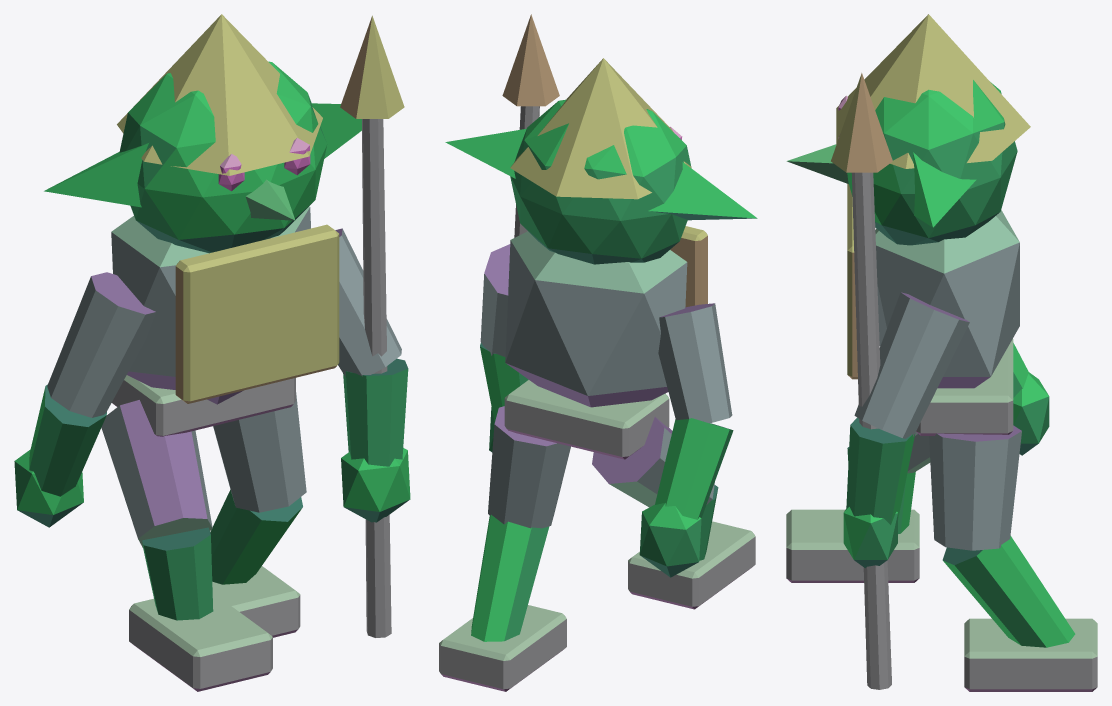
Rendered from creature_goblin_raider_passing_a_v01.glb.
3 views of the same model, side by side, from view 1: azimuth 30°, elevation 25°; view 2: azimuth 150°, elevation 25°; view 3: azimuth 270°, elevation 25° (orthographic). The views are drawn at different scales.
Parts seen in each view (by area): view 1: GEO_creature_goblin_raider_passing_a_v01; view 2: GEO_creature_goblin_raider_passing_a_v01; view 3: GEO_creature_goblin_raider_passing_a_v01.
Part boxes in pixels (x1,y1,x2,y2): GEO_creature_goblin_raider_passing_a_v01: (14,14,410,691); GEO_creature_goblin_raider_passing_a_v01: (439,14,757,691); GEO_creature_goblin_raider_passing_a_v01: (786,14,1097,691).
Size of the model in its own units: 0.88 by 1.57 by 0.7.
